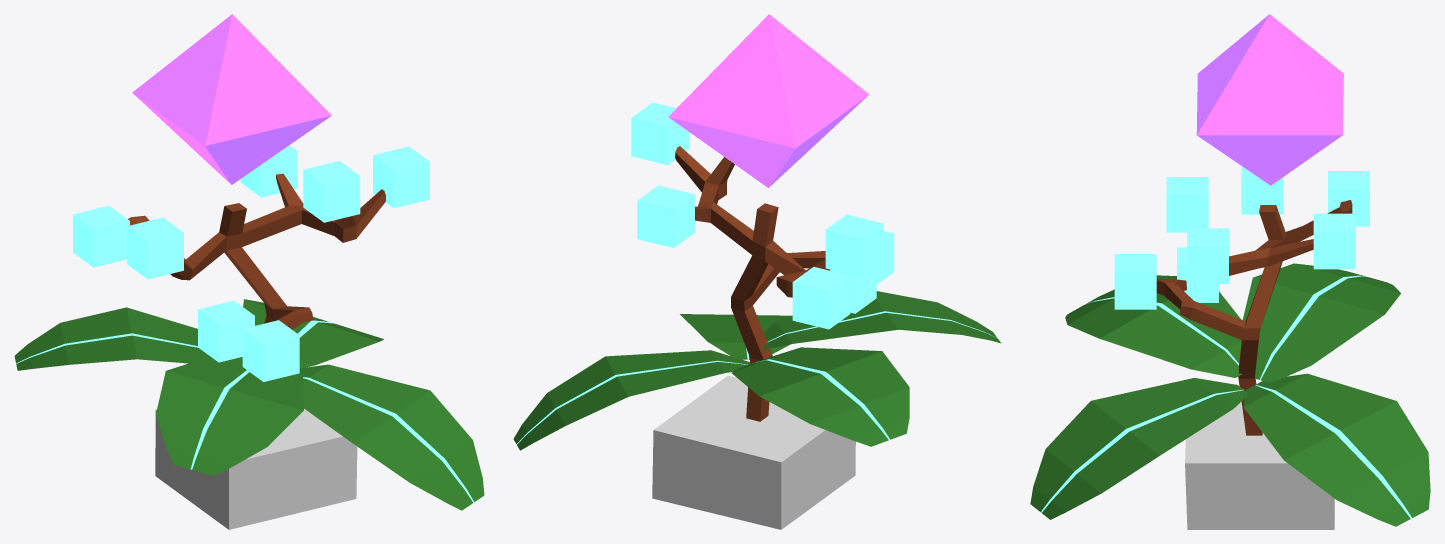
Rendered from plant.glb.
The picture shows the model from 3 angles, left to right: view 1: azimuth 30°, elevation 25°; view 2: azimuth 150°, elevation 25°; view 3: azimuth 270°, elevation 25°; orthographic projection.
Visible parts, largest first — view 1: Leafs, Fruit, Base, Trunk, Cube.014, Cube.012, Cube.013, Cube.010, Cube.011, Cube.015, Cube.016; view 2: Leafs, Base, Fruit, Trunk, Cube.011, Cube.013, Cube.016, Cube.010, Cube.015, Cube.014; view 3: Leafs, Fruit, Base, Trunk, Cube.016, Cube.014, Cube.010, Cube.012, Cube.011, Cube.013, Cube.015.
Part boxes in pixels (bbox=[...]): Leafs: bbox=[14, 299, 484, 510]; Fruit: bbox=[132, 14, 331, 184]; Base: bbox=[155, 409, 357, 529]; Trunk: bbox=[128, 173, 385, 329]; Cube.014: bbox=[242, 320, 299, 381]; Cube.012: bbox=[303, 161, 360, 222]; Cube.013: bbox=[127, 217, 183, 279]; Cube.010: bbox=[373, 146, 429, 208]; Cube.011: bbox=[73, 205, 129, 267]; Cube.015: bbox=[198, 300, 254, 362]; Cube.016: bbox=[240, 145, 297, 197]; Leafs: bbox=[513, 291, 1001, 450]; Base: bbox=[652, 375, 855, 529]; Fruit: bbox=[668, 14, 868, 187]; Trunk: bbox=[675, 146, 830, 421]; Cube.011: bbox=[792, 267, 850, 329]; Cube.013: bbox=[825, 214, 883, 276]; Cube.016: bbox=[637, 185, 694, 247]; Cube.010: bbox=[631, 102, 689, 164]; Cube.015: bbox=[830, 267, 876, 313]; Cube.014: bbox=[876, 231, 894, 284]; Leafs: bbox=[1030, 263, 1430, 526]; Fruit: bbox=[1196, 14, 1343, 185]; Base: bbox=[1185, 401, 1334, 529]; Trunk: bbox=[1156, 200, 1352, 435]; Cube.016: bbox=[1313, 213, 1355, 269]; Cube.014: bbox=[1114, 254, 1156, 309]; Cube.010: bbox=[1187, 228, 1228, 283]; Cube.012: bbox=[1166, 177, 1208, 232]; Cube.011: bbox=[1328, 171, 1369, 226]; Cube.013: bbox=[1241, 166, 1283, 214]; Cube.015: bbox=[1177, 247, 1218, 302].
Bounding box in the file's own units: 5.74 × 7.12 × 5.43.
